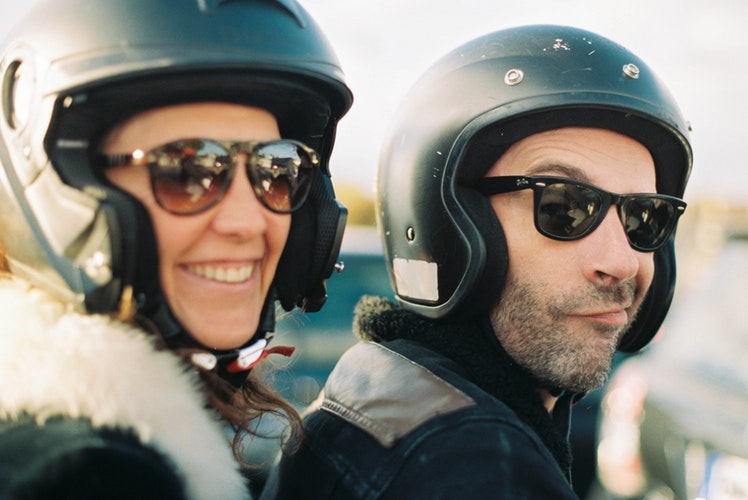helmet: (4, 4, 336, 312), (361, 20, 686, 316)
